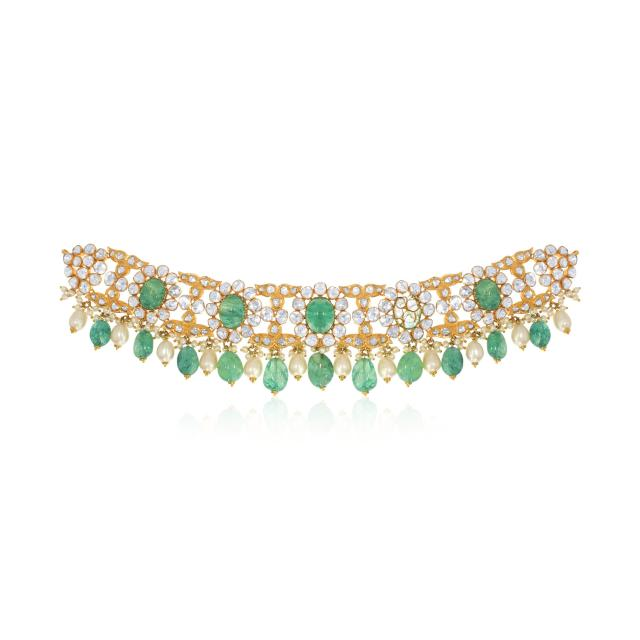missing gem: (394, 295, 420, 328)
